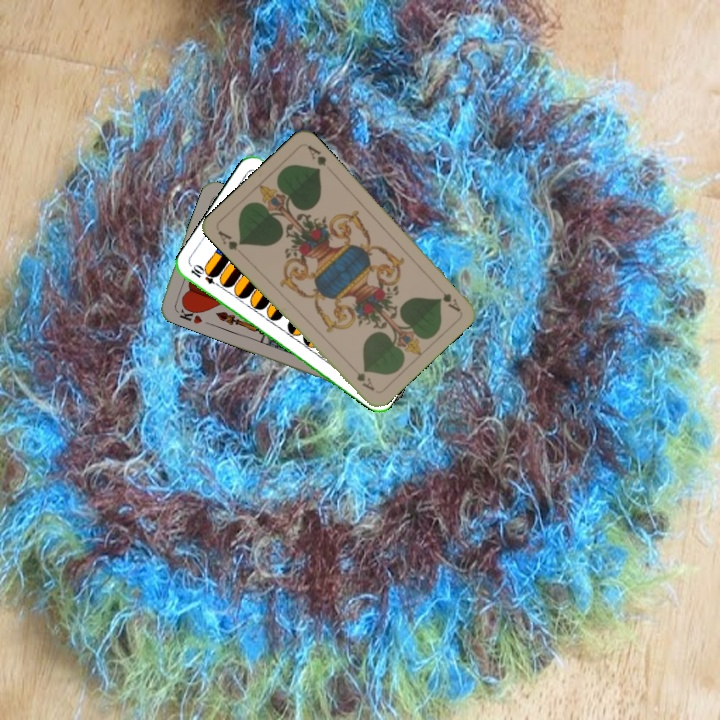E10: (187, 263, 224, 290)
GA: (214, 226, 245, 253), (438, 289, 463, 314)
HK: (172, 301, 205, 326)
